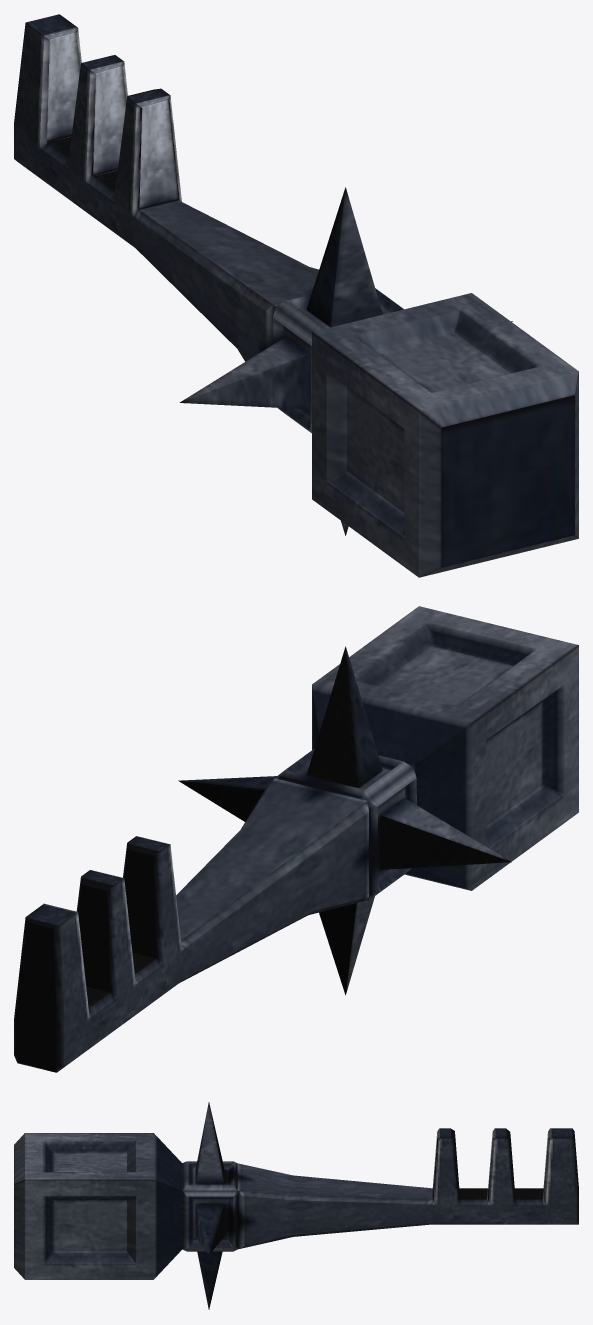
File: w_s_key.obj
The picture shows the model from 3 angles, top to bottom: view 1: azimuth 30°, elevation 25°; view 2: azimuth 150°, elevation 25°; view 3: azimuth 270°, elevation 25°; orthographic projection. The views are drawn at different scales.
Size of the model in its own units: 12.5 by 12.5 by 30.52.
Materials: 1 (1 with a texture image).
